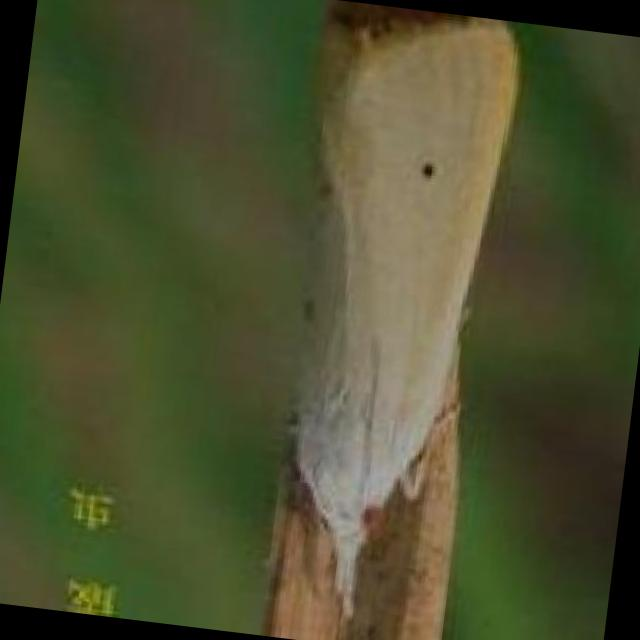stem-borer: (255, 0, 534, 637)
